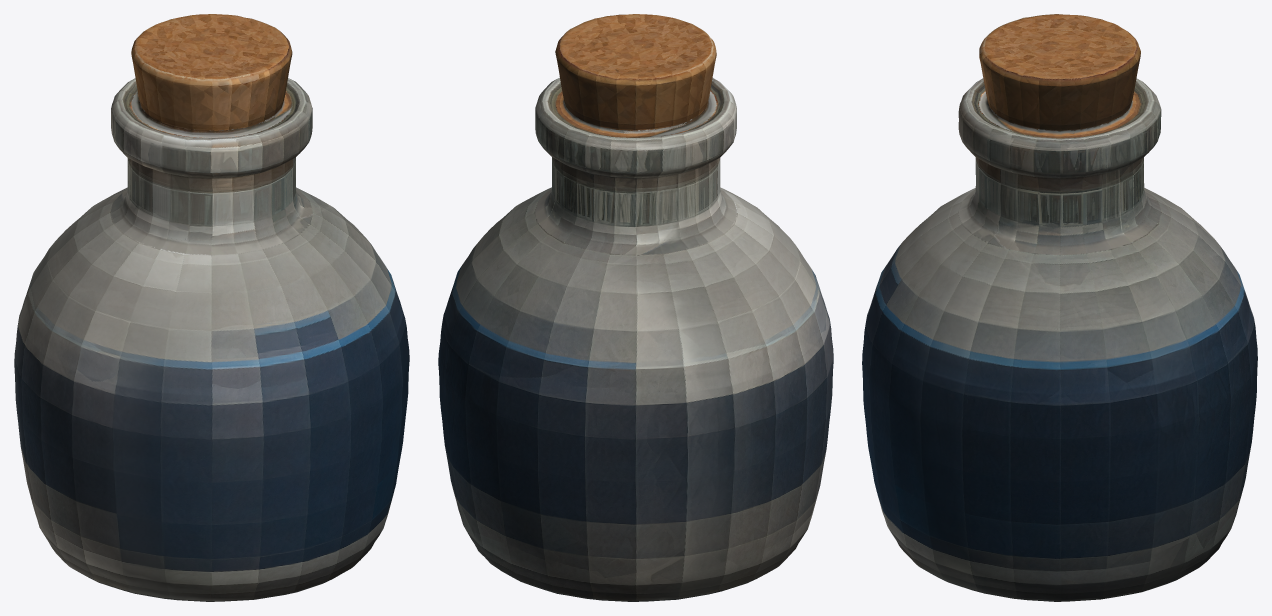
Rendered from Prop_Bottle_Blue.fbx.
3 renders of one model, left to right at view 1: azimuth 30°, elevation 25°; view 2: azimuth 150°, elevation 25°; view 3: azimuth 270°, elevation 25°, orthographic.
Parts seen in each view (by area): view 1: texture_mapping; view 2: texture_mapping; view 3: texture_mapping.
Boxes of the visible parts, box(x1,y1,x2,y2) form: texture_mapping: box(14, 14, 409, 601); texture_mapping: box(438, 14, 833, 601); texture_mapping: box(862, 14, 1257, 601).
Bounding box in the file's own units: 0.7278 × 0.7279 × 1.
Materials: 1 (1 with a texture image).
